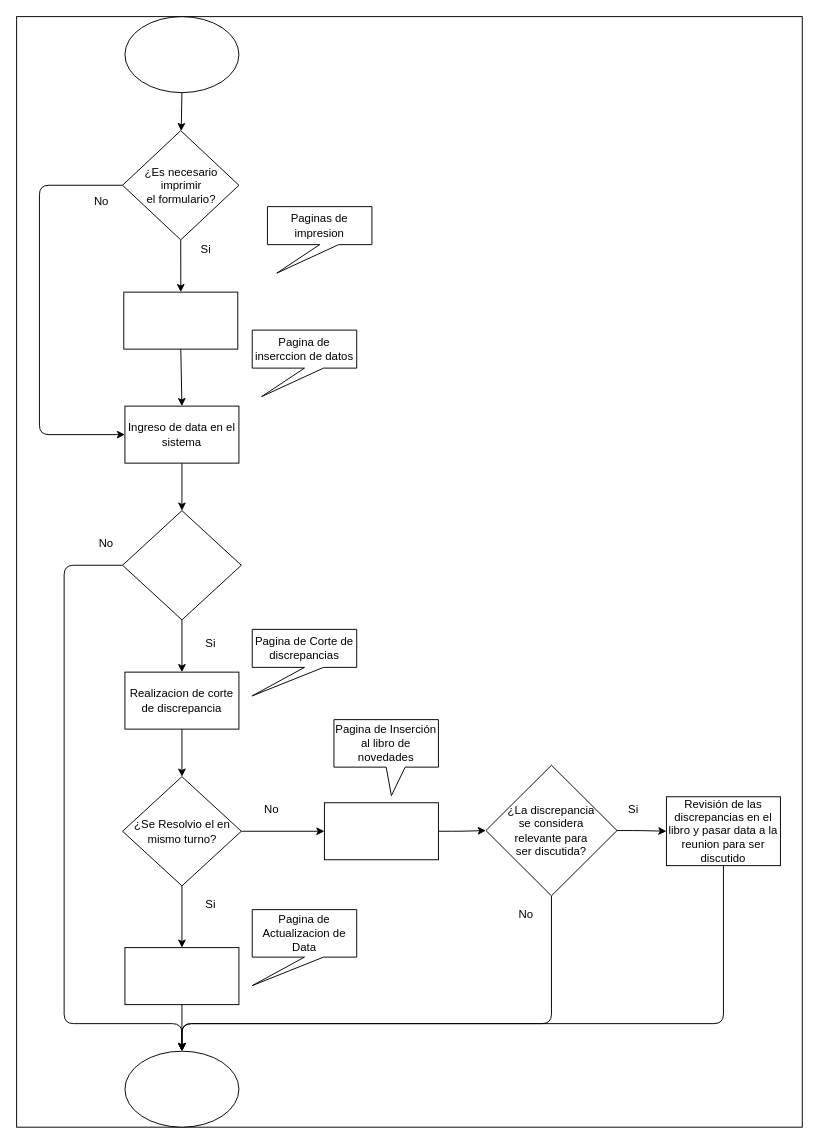
The diagram is 819 pixels wide and 1144 high, and some of its shapes have lost their labels. The shapes that lost their labels are listed below. From the top down, each one's box as (x1, y1, x2, y2) in pixels, then its label:
(124, 16, 239, 93): Inicio
(123, 291, 238, 349): Impresion de formularios
(122, 510, 241, 620): ¿Se encuentran variables fuera de rango?
(323, 802, 438, 860): Pasar discrepancias al libro de novedades
(124, 947, 239, 1005): Cargar valores nuevos
(124, 1050, 239, 1127): Fin
